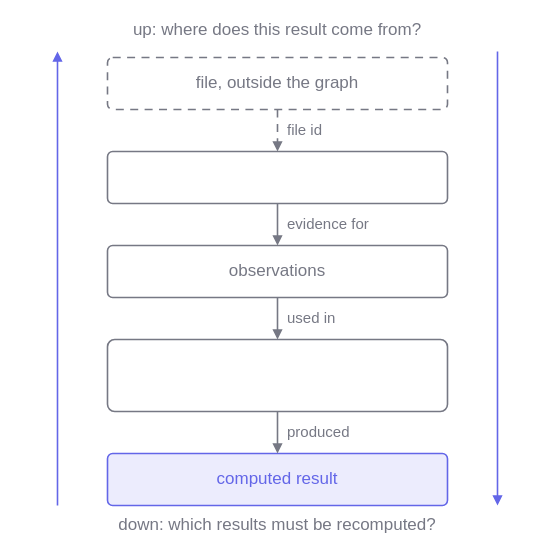
This 554x554 diagram has some shape labels left out. The shapes that lost their labels are listed below. From the top down, each one's centre as x and y in pixels, then its label:
At point (277, 177): "documents".
At point (277, 375): "snapshot of the run engine · version · as known at · filters".
